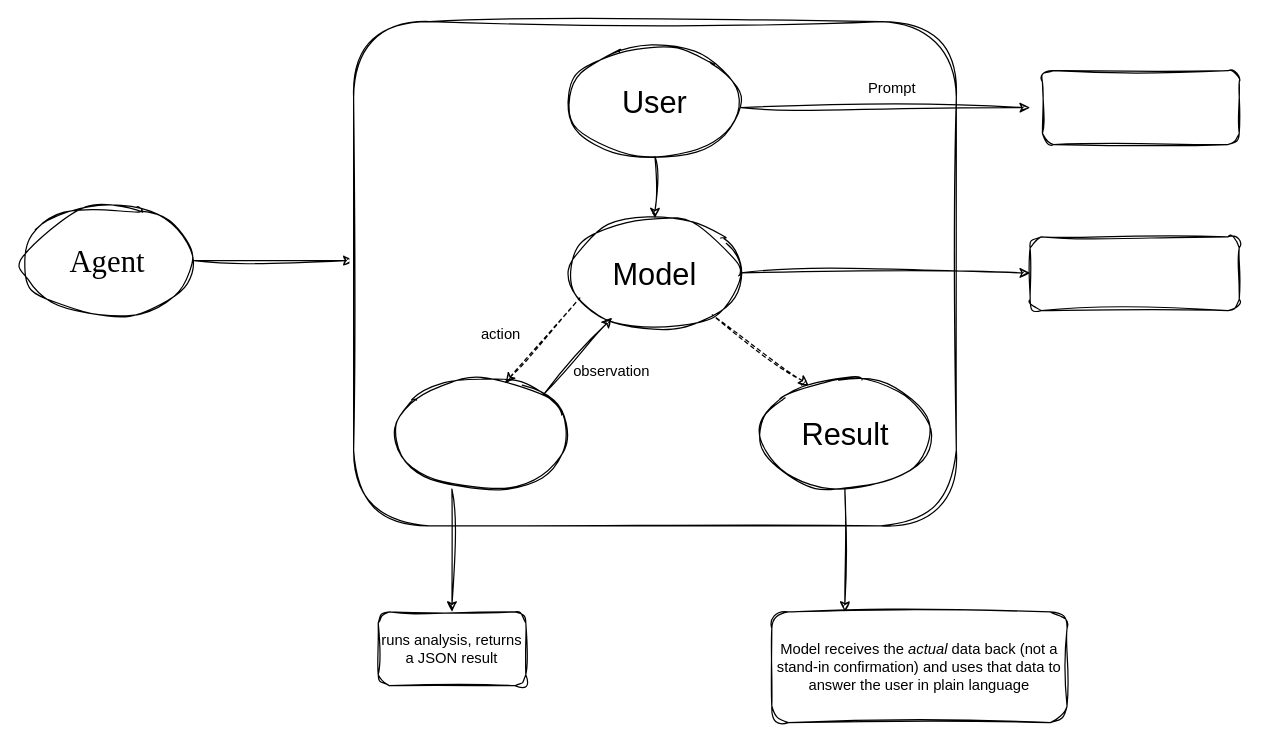
Some shapes in this 1261 by 744 pixel diagram are drawn without their labels. Each missing label, with the box of its shape:
My task is to call analysis_tool to get total revenue: (1029, 236, 1239, 311)
Tool: (395, 377, 569, 489)
What's the total revenue?: (1041, 69, 1239, 145)
